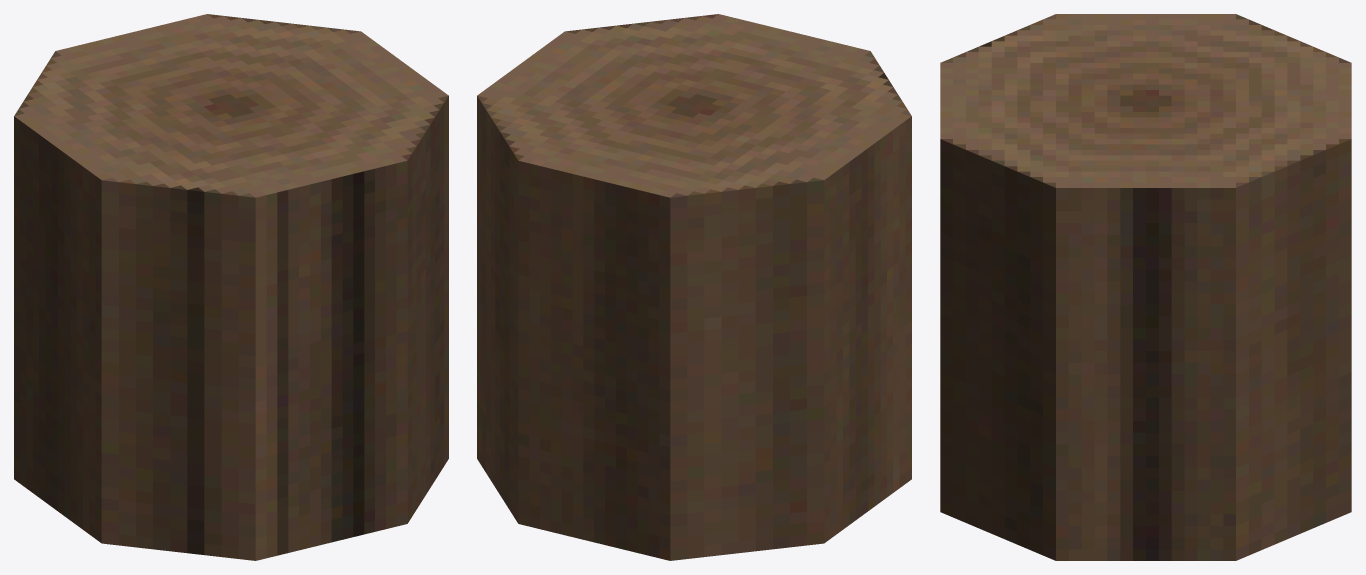
Rendered from tree_generic_large.obj.
3 views of the same model, side by side, from view 1: azimuth 30°, elevation 25°; view 2: azimuth 150°, elevation 25°; view 3: azimuth 270°, elevation 25° (orthographic). The views are drawn at different scales.
Size of the model in its own units: 1 by 1 by 1.
